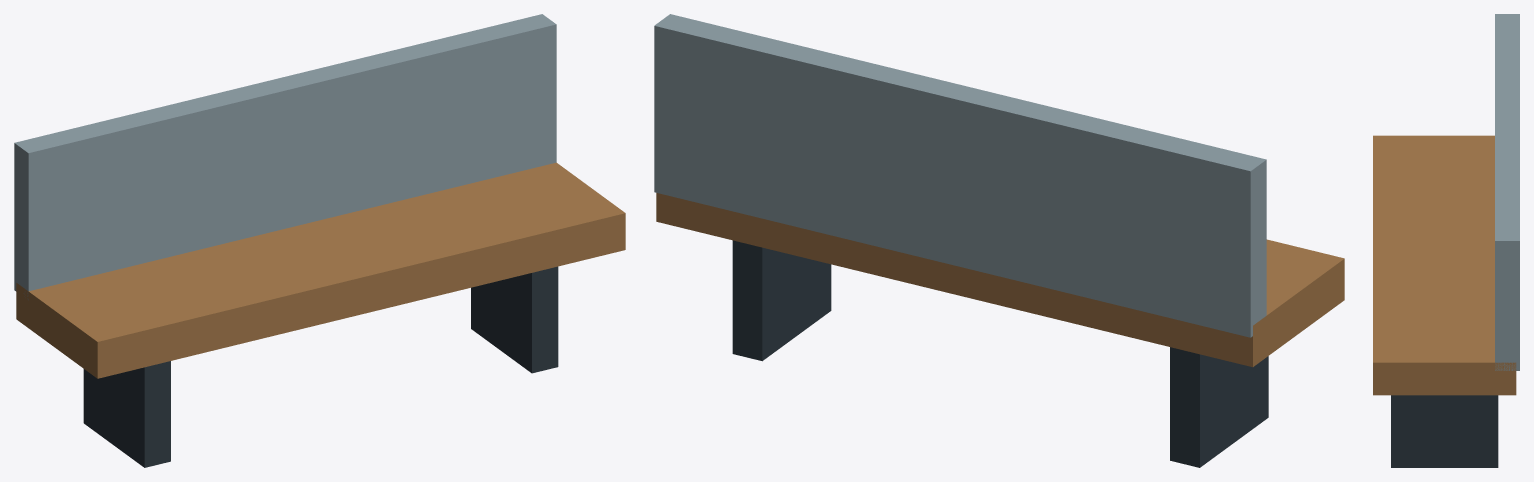
The model's file is bench.lod2.glb.
3 views of the same model, side by side, from view 1: azimuth 30°, elevation 25°; view 2: azimuth 150°, elevation 25°; view 3: azimuth 270°, elevation 25° (orthographic). The views are drawn at different scales.
Visible parts, largest first — view 1: structure; view 2: structure; view 3: structure.
Boxes of the visible parts, x1,y1,x2,y2 form: structure: (14,14,625,467); structure: (654,14,1344,467); structure: (1373,14,1519,467).
Bounding box in the file's own units: 3 × 1.55 × 0.82.
